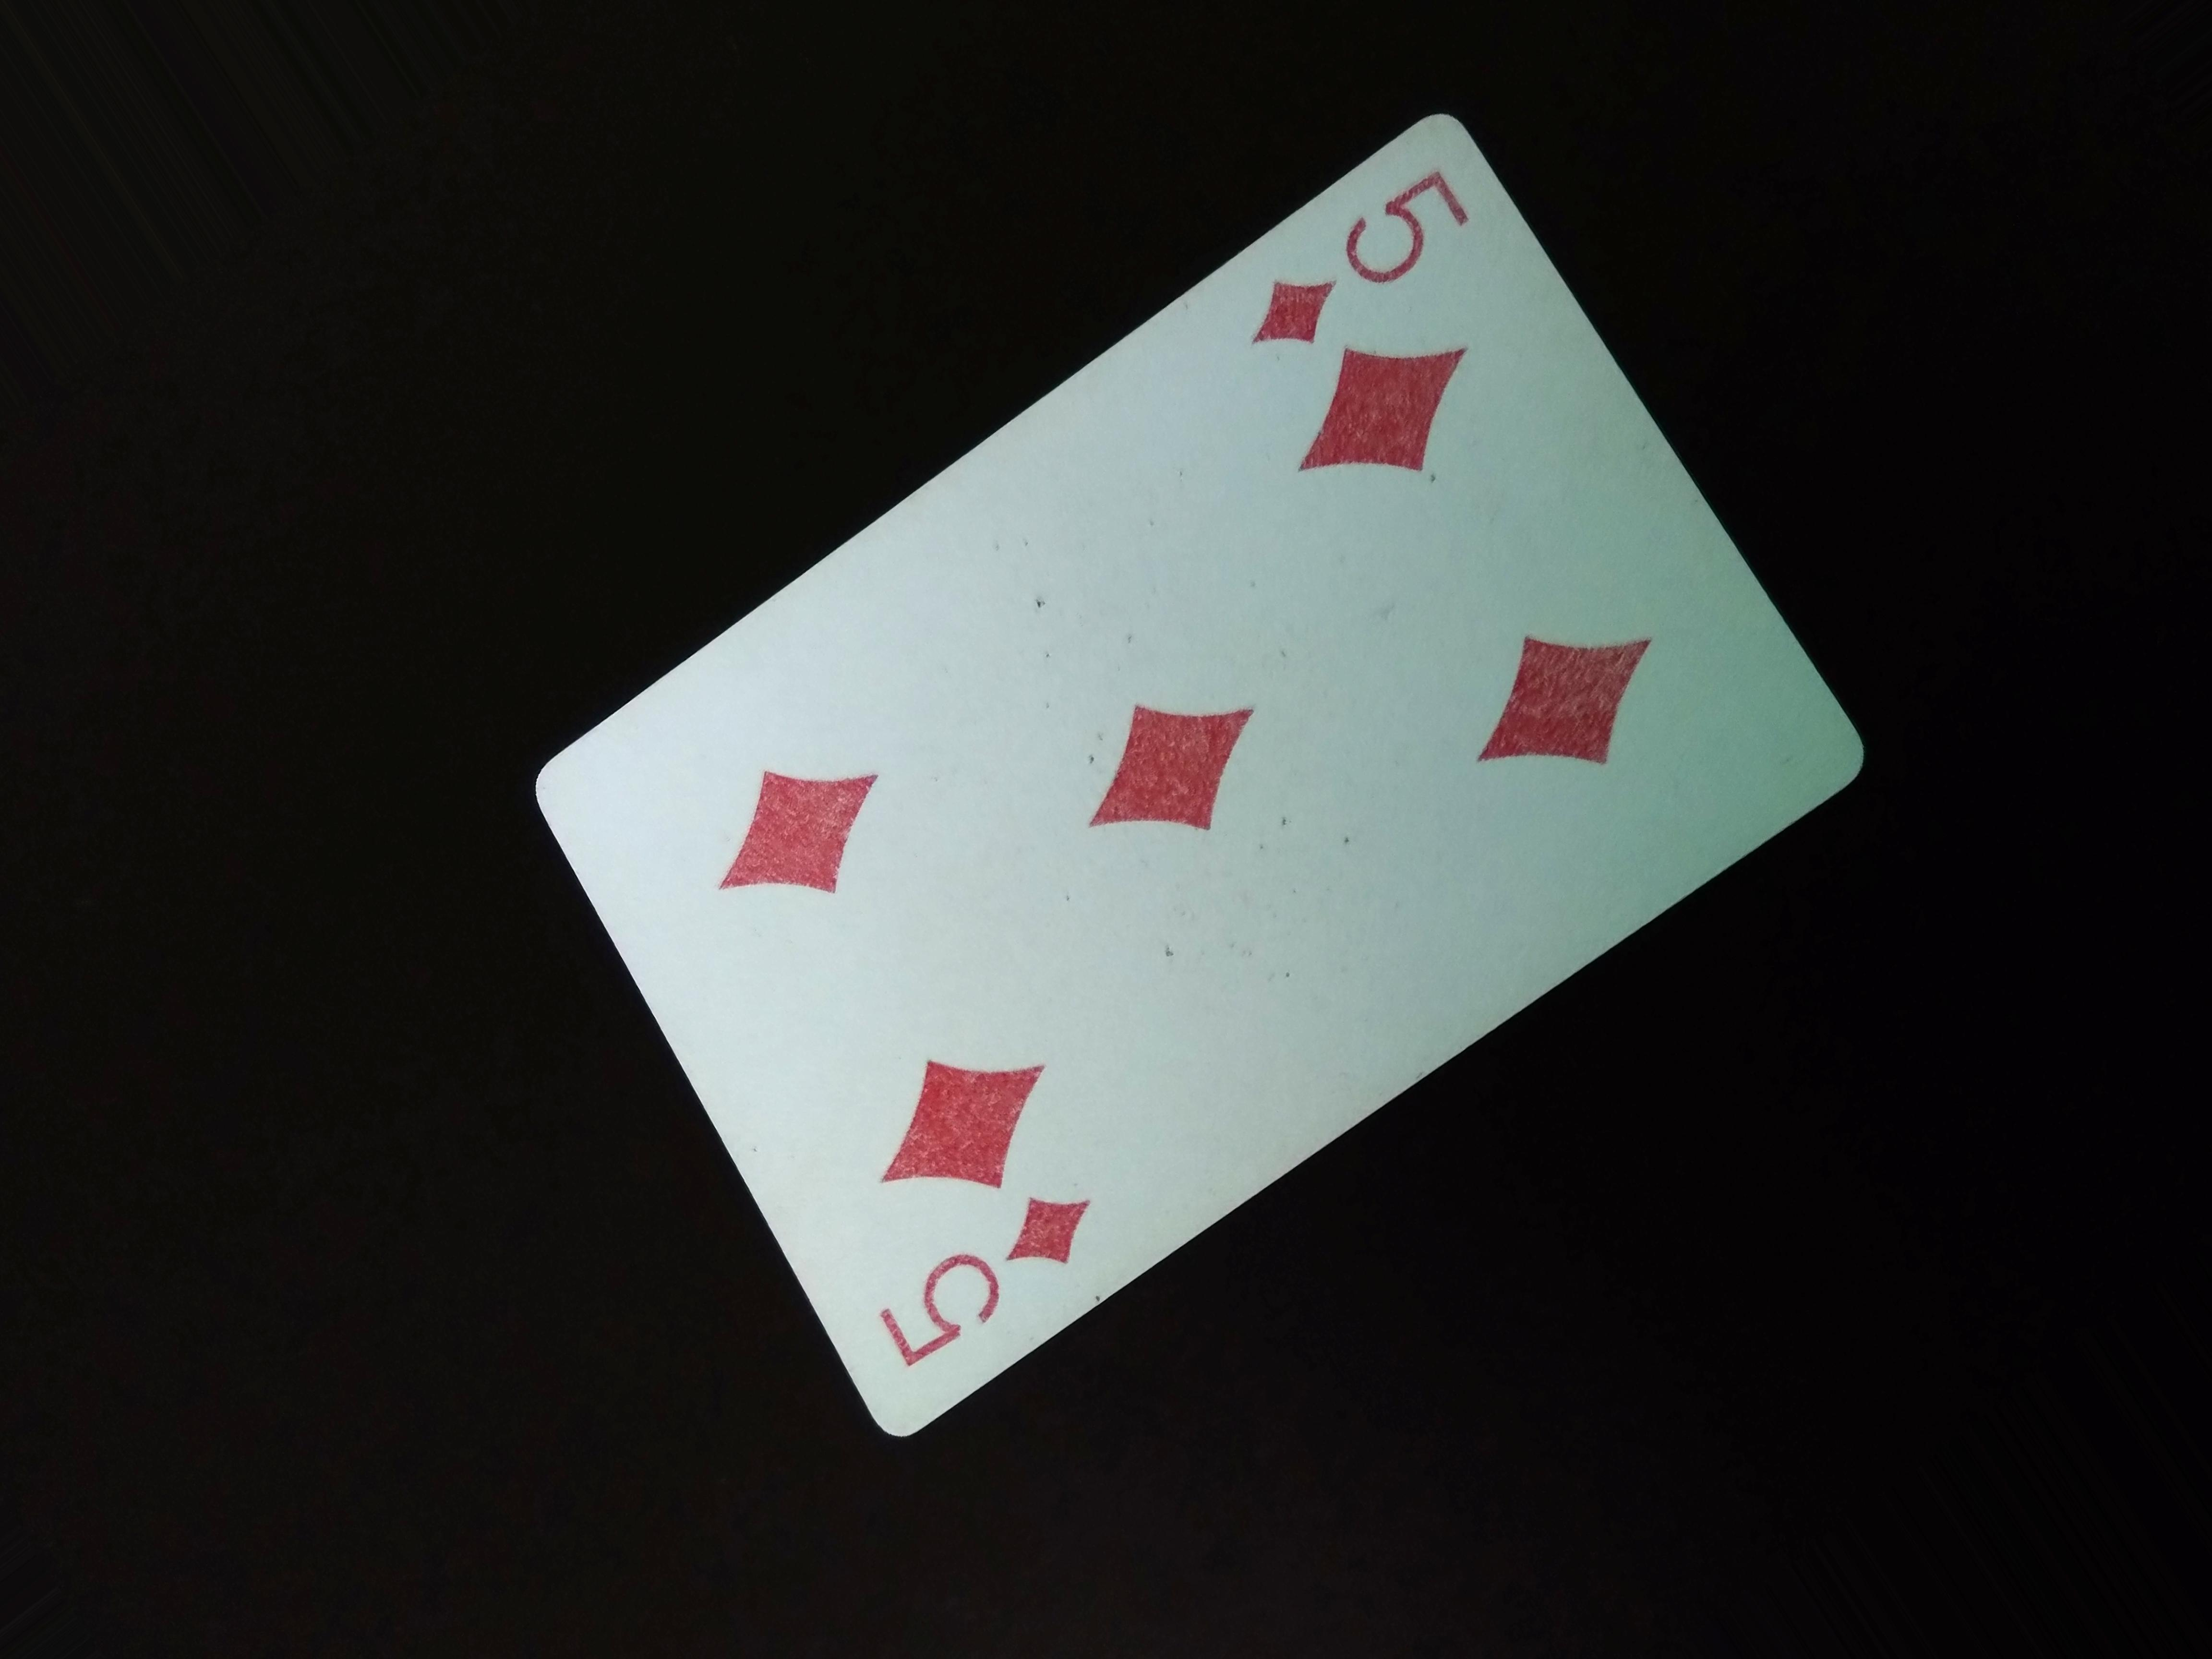5D: (1256, 160, 1468, 352)
